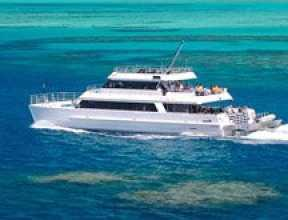yacht: (26, 61, 285, 146)
